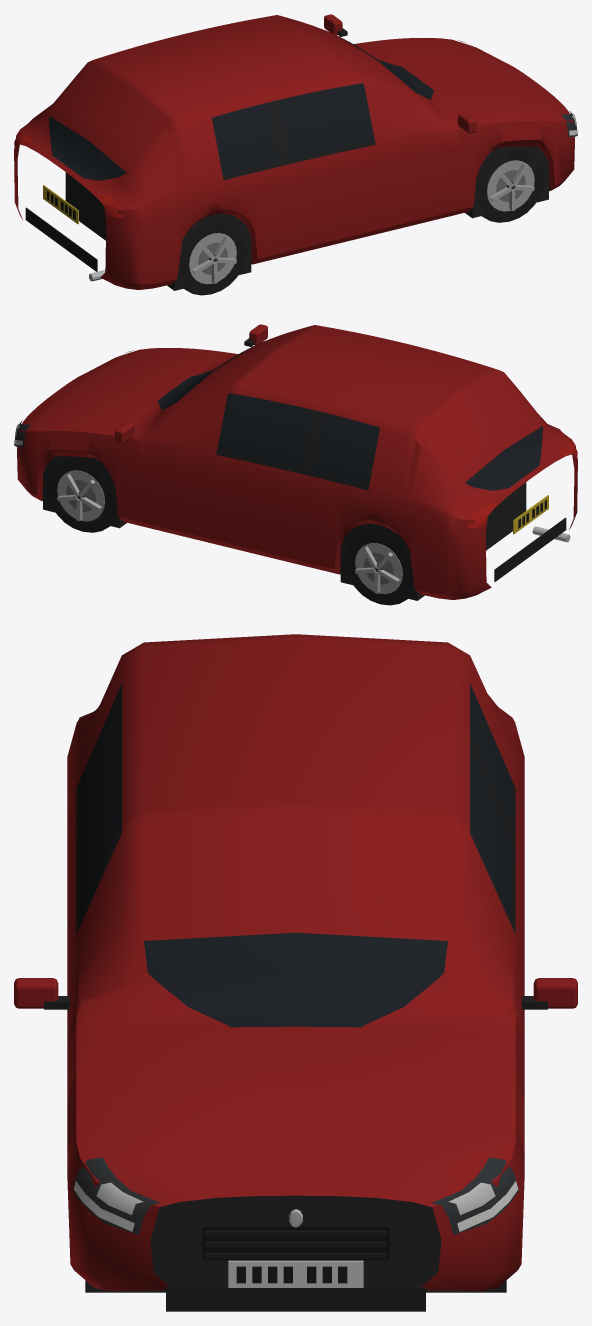
The model's file is SM_Prop_parked_car_101.glb.
3 views of the same model, one above another, from view 1: azimuth 30°, elevation 25°; view 2: azimuth 150°, elevation 25°; view 3: azimuth 270°, elevation 25° (orthographic). The views are drawn at different scales.
Parts seen in each view (by area): view 1: SM_Prop_parked_car_101; view 2: SM_Prop_parked_car_101; view 3: SM_Prop_parked_car_101.
Boxes of the visible parts, x1=… form: SM_Prop_parked_car_101: x1=14, y1=14, x2=577, y2=295; SM_Prop_parked_car_101: x1=14, y1=324, x2=577, y2=605; SM_Prop_parked_car_101: x1=14, y1=634, x2=577, y2=1311.
Bounding box in the file's own units: 4.12 × 1.49 × 2.17.
